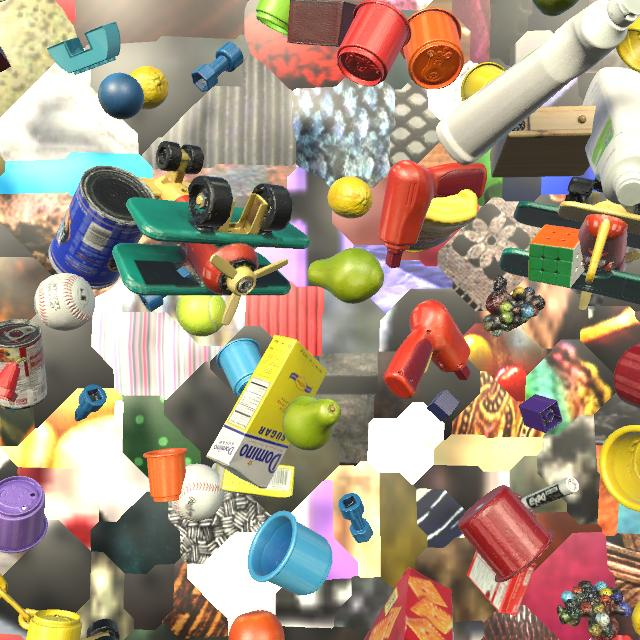ycb_002_master_chef_can: (48, 165, 155, 290)
ycb_003_cracker_box: (364, 568, 454, 640)
ycb_004_sugar_box: (206, 335, 327, 489), (212, 463, 295, 498)
ycb_005_tomato_soup_can: (0, 319, 48, 410)
ycb_006_mustard_bottle: (405, 189, 478, 253)
ycb_007_tuna_fish_can: (0, 0, 5, 2)
ycb_009_gelatin_box: (467, 551, 536, 616)
ycb_014_lemon: (327, 176, 373, 218), (129, 66, 168, 110), (632, 600, 640, 636)
ycb_016_pear: (307, 248, 384, 304), (282, 396, 341, 451), (532, 0, 579, 16)
ycb_017_orange: (228, 610, 285, 640)
